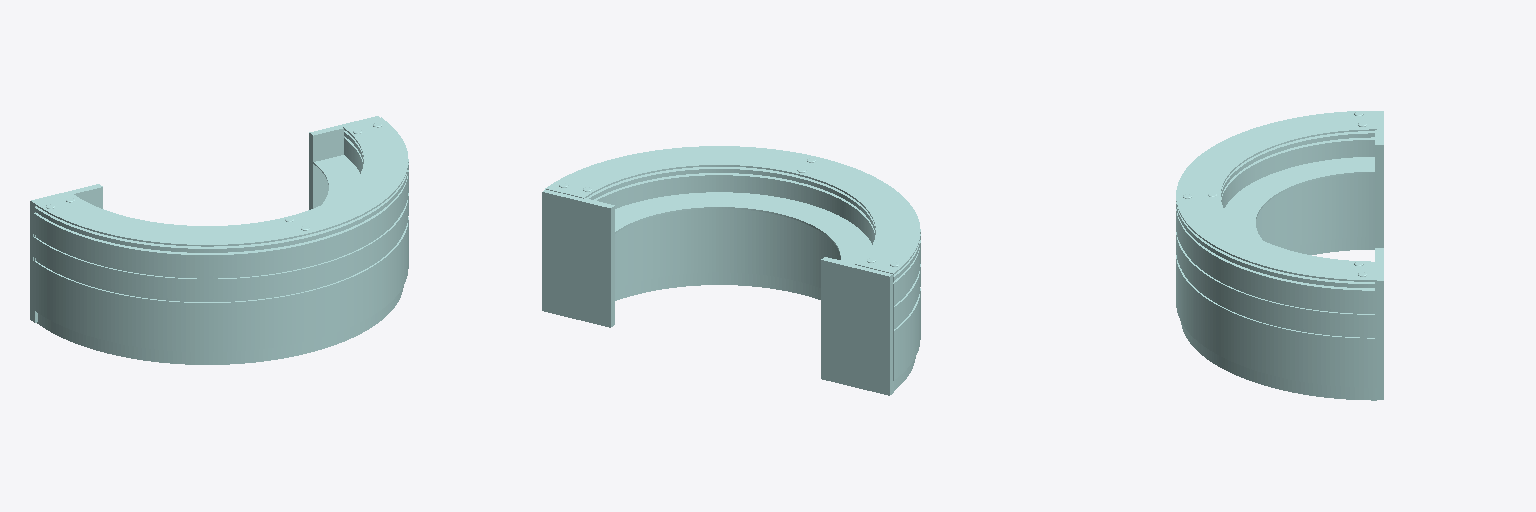
3 views of the same model, side by side, from view 1: azimuth 30°, elevation 25°; view 2: azimuth 150°, elevation 25°; view 3: azimuth 270°, elevation 25° (orthographic).
Parts seen in each view (by area): view 1: Mesh; view 2: Mesh; view 3: Mesh.
Boxes of the visible parts, box(x1,y1,x2,y2) form: Mesh: box(30, 116, 408, 364); Mesh: box(542, 146, 920, 395); Mesh: box(1176, 111, 1383, 400).
Size of the model in its own units: 4.44 by 1.5 by 2.29.
Materials: 1 (1 with a texture image).